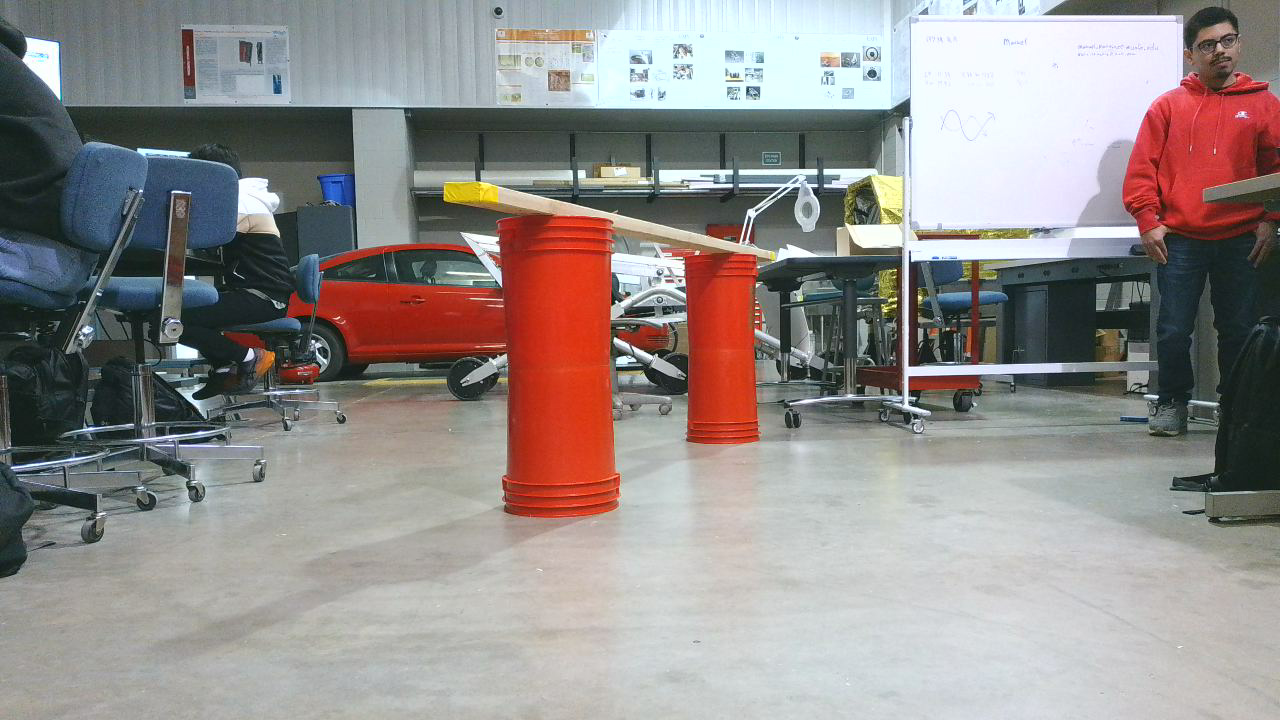red_bucket_arch: (457, 185, 779, 534)
